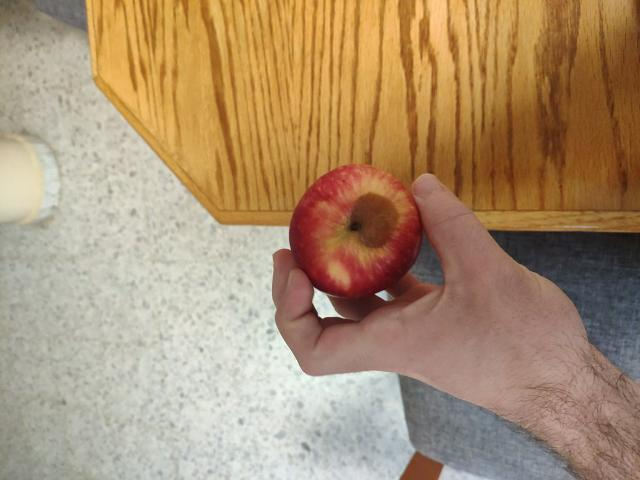apple: (286, 163, 446, 294)
